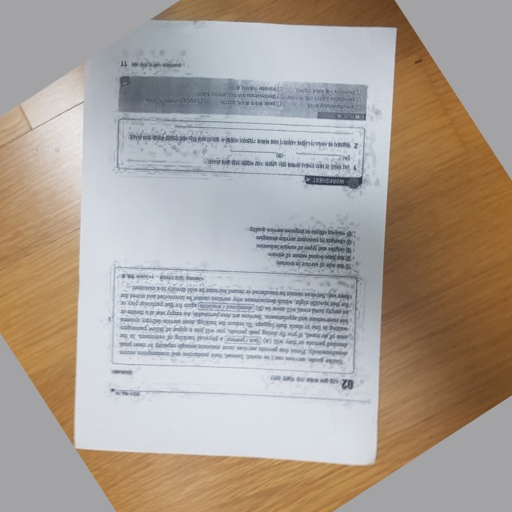Paper_2: (65, 11, 409, 472)
